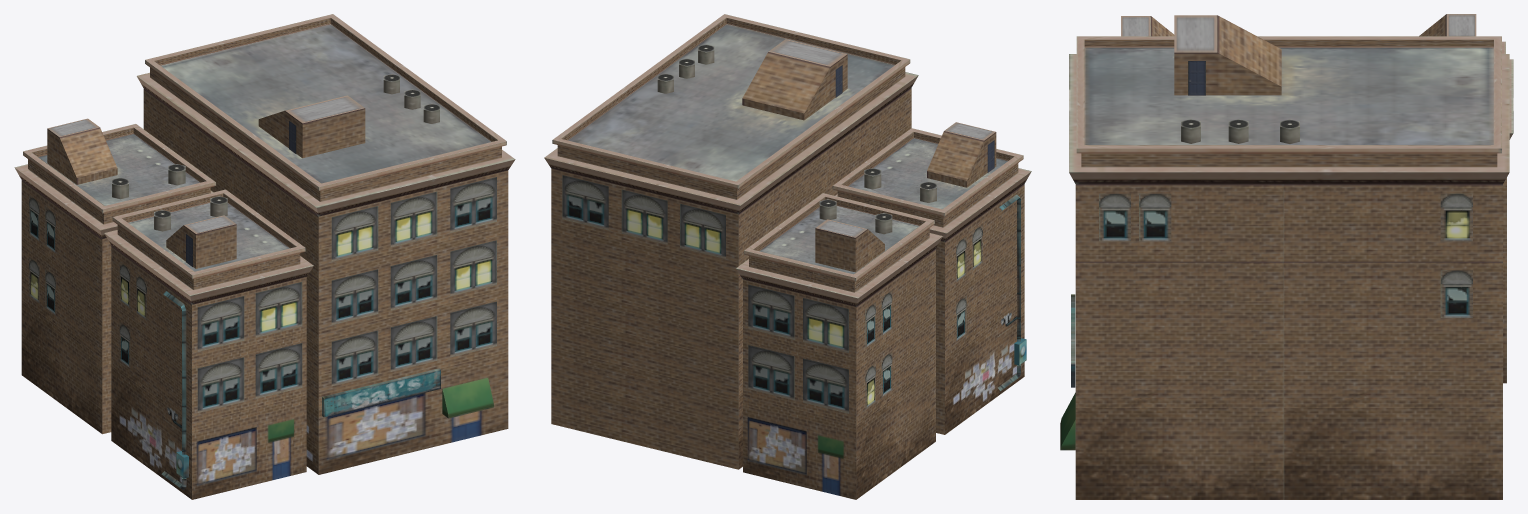
Rendered from housing.glb.
The picture shows the model from 3 angles, left to right: view 1: azimuth 30°, elevation 25°; view 2: azimuth 150°, elevation 25°; view 3: azimuth 270°, elevation 25°; orthographic projection. The views are drawn at different scales.
Parts seen in each view (by area): view 1: housing; view 2: housing; view 3: housing.
Boxes of the visible parts, bbox=[...] form: housing: bbox=[14, 14, 515, 499]; housing: bbox=[544, 14, 1031, 499]; housing: bbox=[1060, 14, 1513, 499].
Bounding box in the file's own units: 18.52 × 17.49 × 18.6.
Materials: 1 (1 with a texture image).
